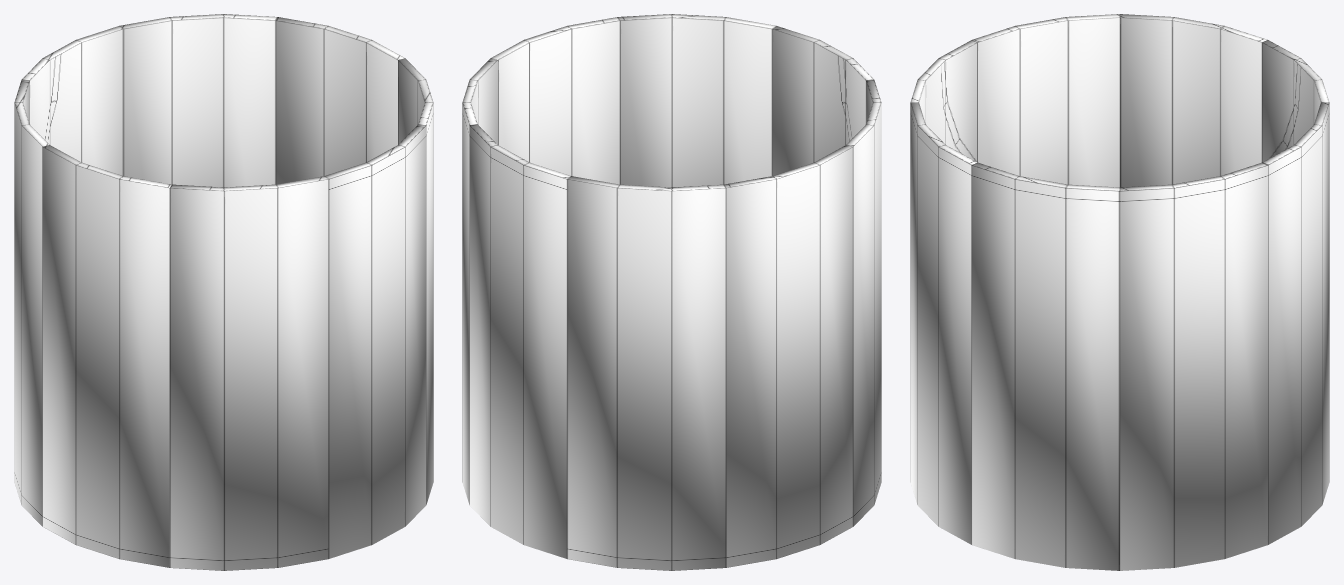
File: open_cylinder.obj
3 views of the same model, side by side, from view 1: azimuth 30°, elevation 25°; view 2: azimuth 150°, elevation 25°; view 3: azimuth 270°, elevation 25° (orthographic).
Parts seen in each view (by area): view 1: Cylinder1_cut3, Cylinder1_cut4, Cylinder1_cut2, Cylinder1_cut7, Cylinder1, Cylinder1_cut5, Cylinder1_cut6, Cylinder1_cut8; view 2: Cylinder1_cut6, Cylinder1_cut5, Cylinder1_cut7, Cylinder1_cut2, Cylinder1_cut8, Cylinder1_cut4, Cylinder1_cut3, Cylinder1; view 3: Cylinder1_cut8, Cylinder1, Cylinder1_cut7, Cylinder1_cut2, Cylinder1_cut5, Cylinder1_cut4, Cylinder1_cut6, Cylinder1_cut3.
Boxes of the visible parts, x1,y1,x2,y2 form: Cylinder1_cut3: (169, 176, 328, 570); Cylinder1_cut4: (42, 145, 171, 567); Cylinder1_cut2: (325, 124, 426, 558); Cylinder1_cut7: (119, 14, 277, 187); Cylinder1: (276, 17, 404, 184); Cylinder1_cut5: (14, 79, 49, 526); Cylinder1_cut6: (22, 26, 123, 175); Cylinder1_cut8: (398, 58, 433, 504); Cylinder1_cut6: (567, 176, 726, 570); Cylinder1_cut5: (724, 145, 853, 567); Cylinder1_cut7: (469, 124, 570, 558); Cylinder1_cut2: (618, 14, 776, 187); Cylinder1_cut8: (491, 17, 619, 184); Cylinder1_cut4: (846, 79, 881, 526); Cylinder1_cut3: (772, 26, 873, 175); Cylinder1: (462, 58, 497, 504); Cylinder1_cut8: (971, 162, 1119, 570); Cylinder1: (1120, 162, 1268, 570); Cylinder1_cut7: (1262, 102, 1329, 544); Cylinder1_cut2: (910, 102, 977, 544); Cylinder1_cut5: (1120, 14, 1267, 187); Cylinder1_cut4: (972, 14, 1119, 187); Cylinder1_cut6: (1262, 40, 1329, 162); Cylinder1_cut3: (910, 40, 977, 162).
Bounding box in the file's own units: 1 × 1 × 1.
Materials: 1 (1 with a texture image).
